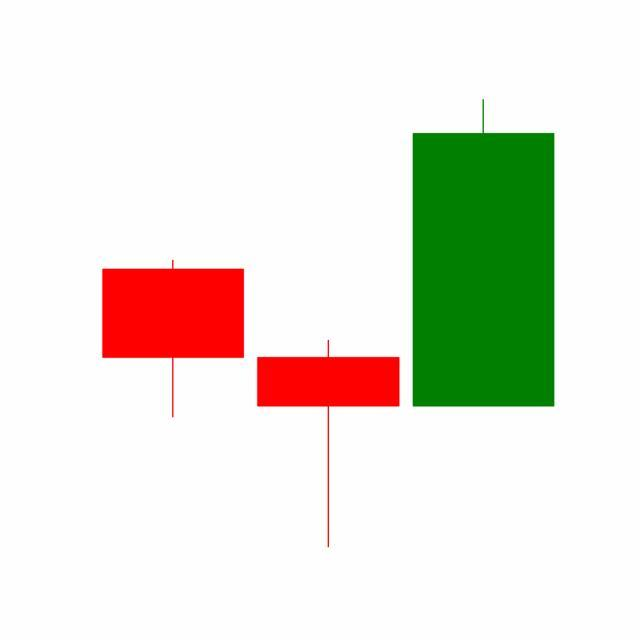Hammer: (250, 338, 407, 551)
